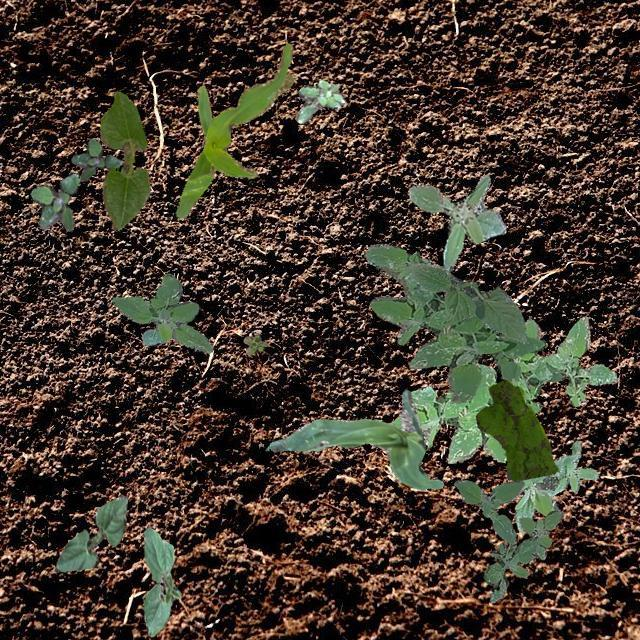crop: (175, 42, 292, 216), (264, 388, 442, 489), (410, 262, 526, 342), (99, 90, 150, 230), (55, 494, 126, 572), (143, 524, 180, 636)
weed: (363, 242, 544, 402), (452, 478, 564, 602), (476, 316, 616, 412), (406, 174, 504, 270), (392, 386, 506, 462), (474, 380, 558, 480), (110, 272, 212, 352), (514, 439, 598, 532), (30, 172, 78, 230), (70, 138, 120, 180), (296, 80, 344, 122), (242, 334, 266, 354)
